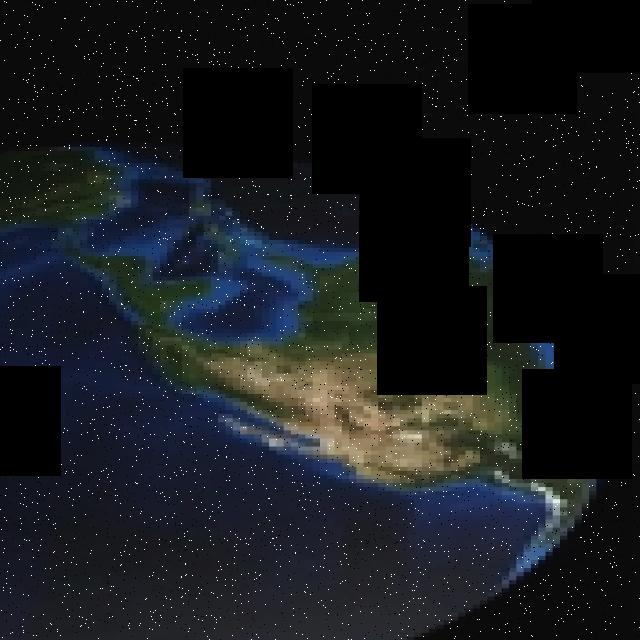Earth: (0, 138, 618, 640)
